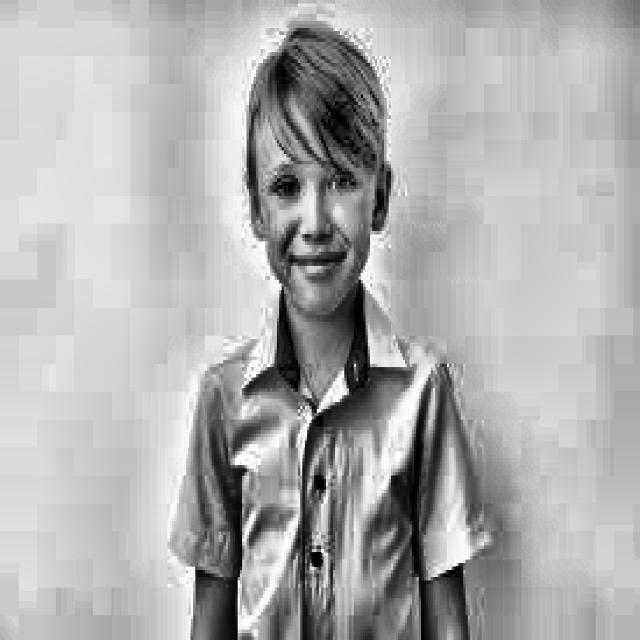happy: (233, 25, 412, 308)
